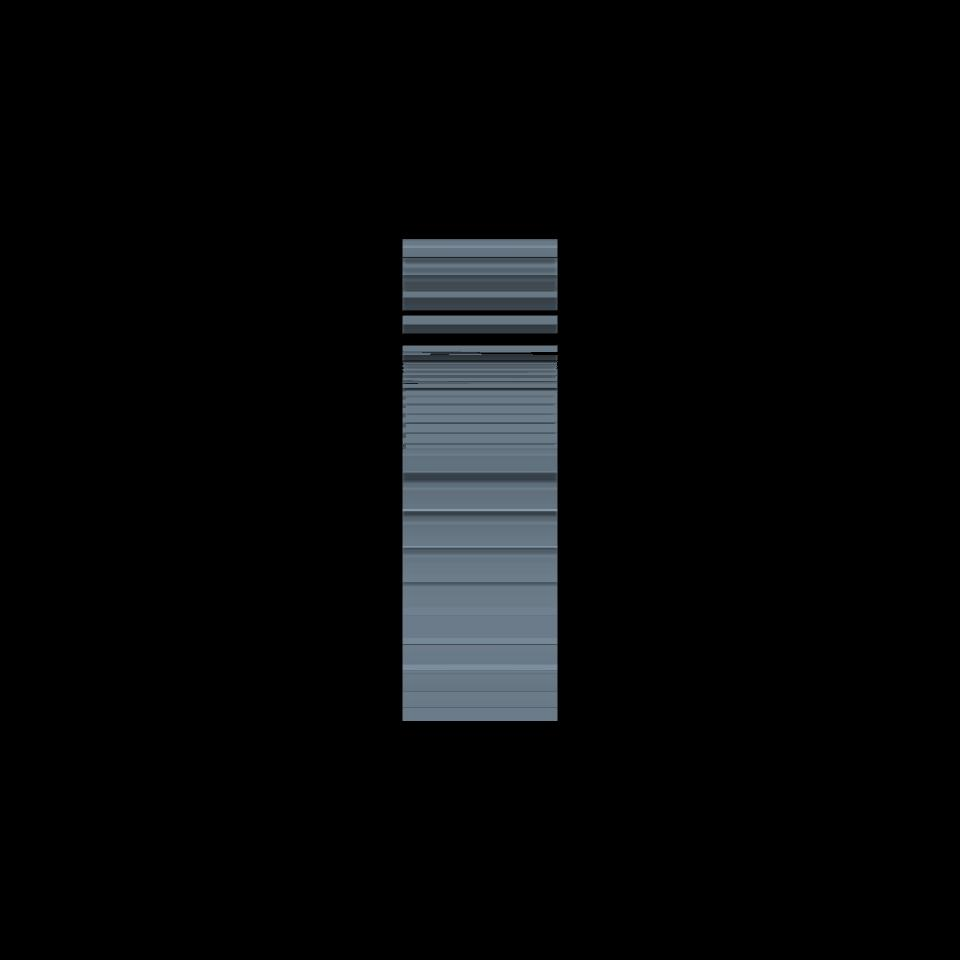Straight: (403, 240, 557, 720)
